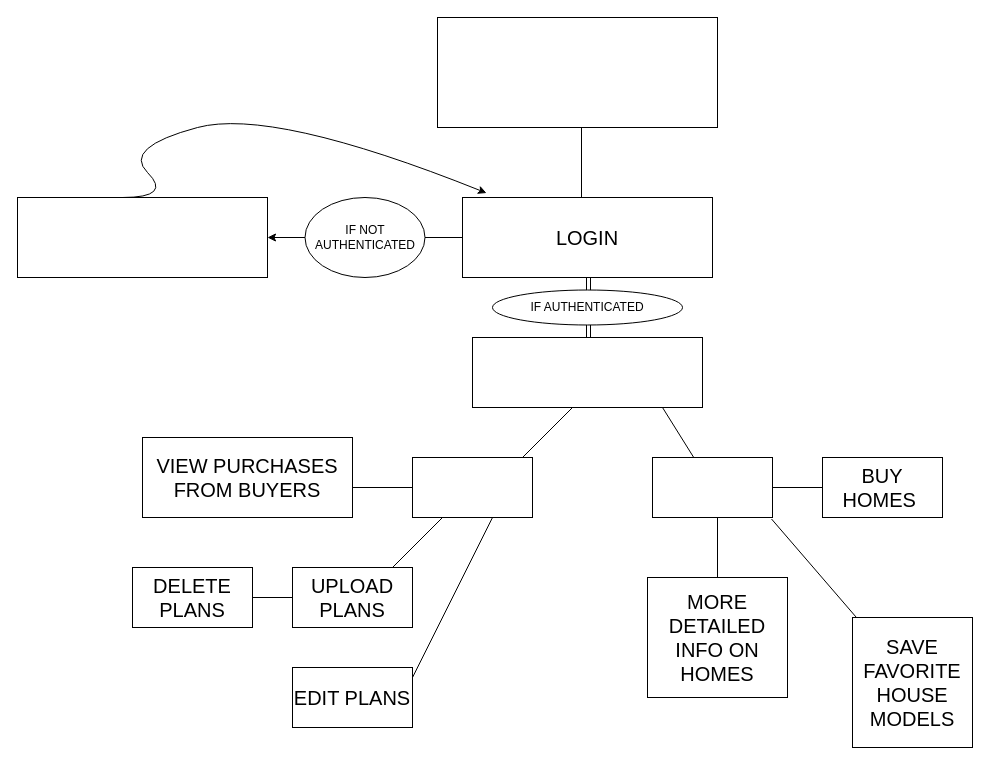
Some shapes in this 990 by 765 pixel diagram are drawn without their labels. The shapes that lost their labels are listed below. From the top down, each one's centre as x and y in pixels, then its label:
point 577,72: USER ENTERS SITE
point 142,237: SEND TO SIGN UP
point 587,372: VIEW "YOUR" PAGE
point 472,487: BUILDER
point 712,487: HOME BUYER
